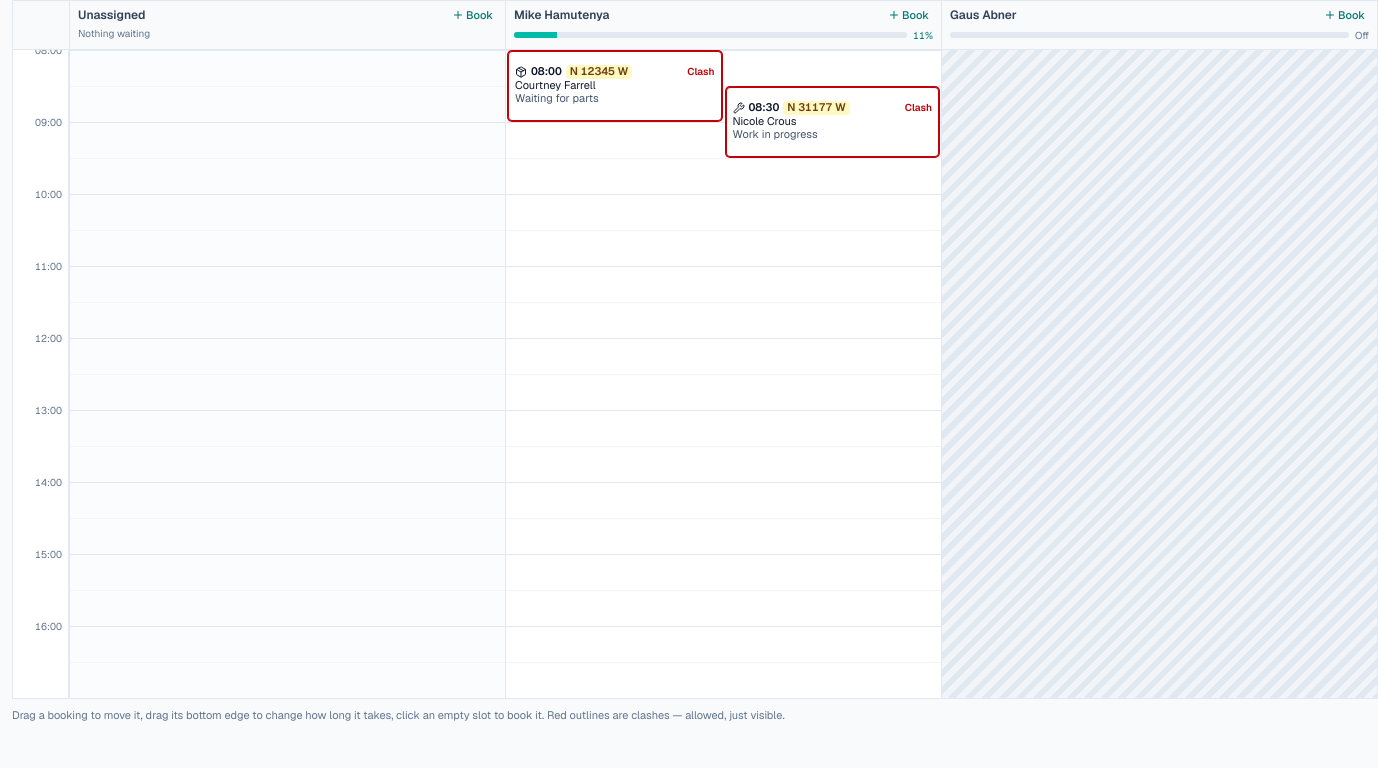
Test case: Book offers the lane's first free slot and moves focus to it; Escape takes the offer away
The width and height of the screenshot is (1378, 768).
Click the button named "Book with Mike Hamutenya". click: (908, 15)
box: [884,5,933,26]
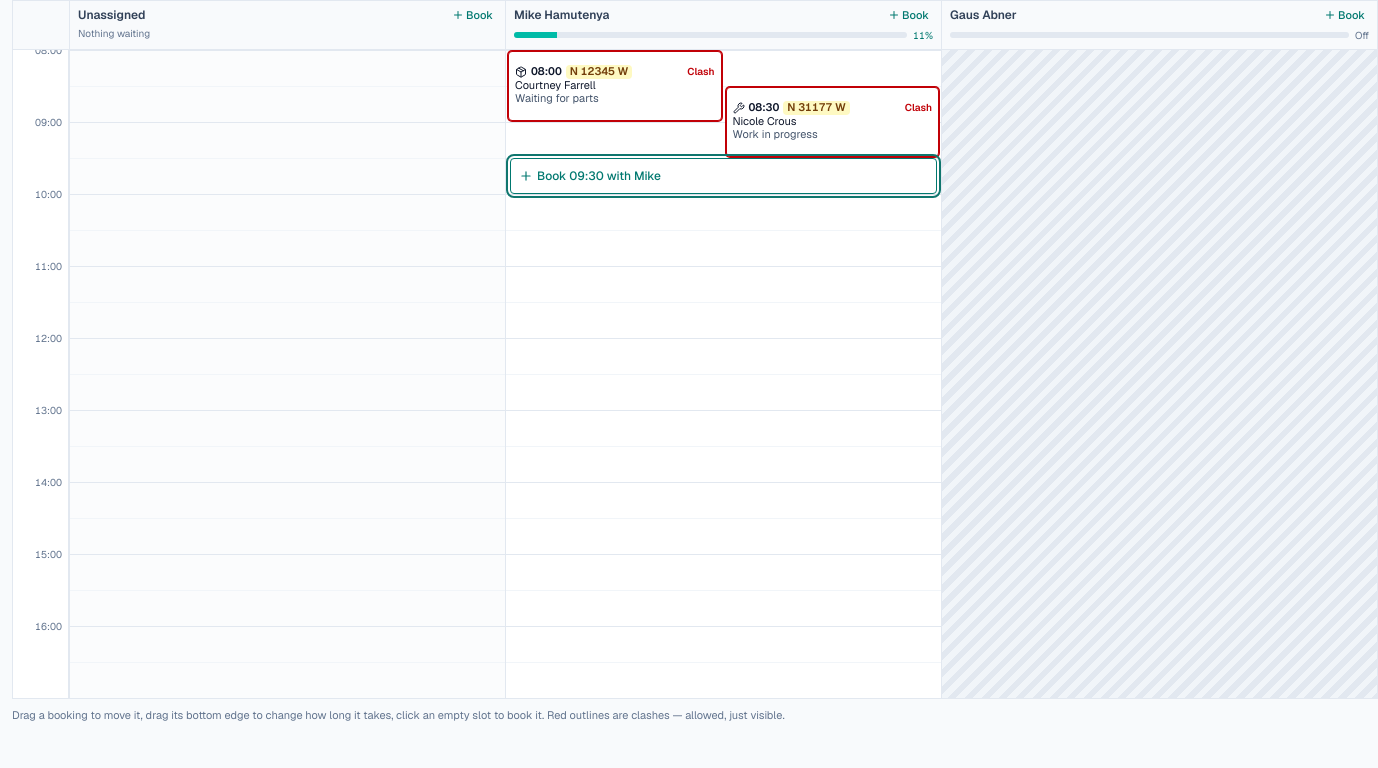
Press Escape
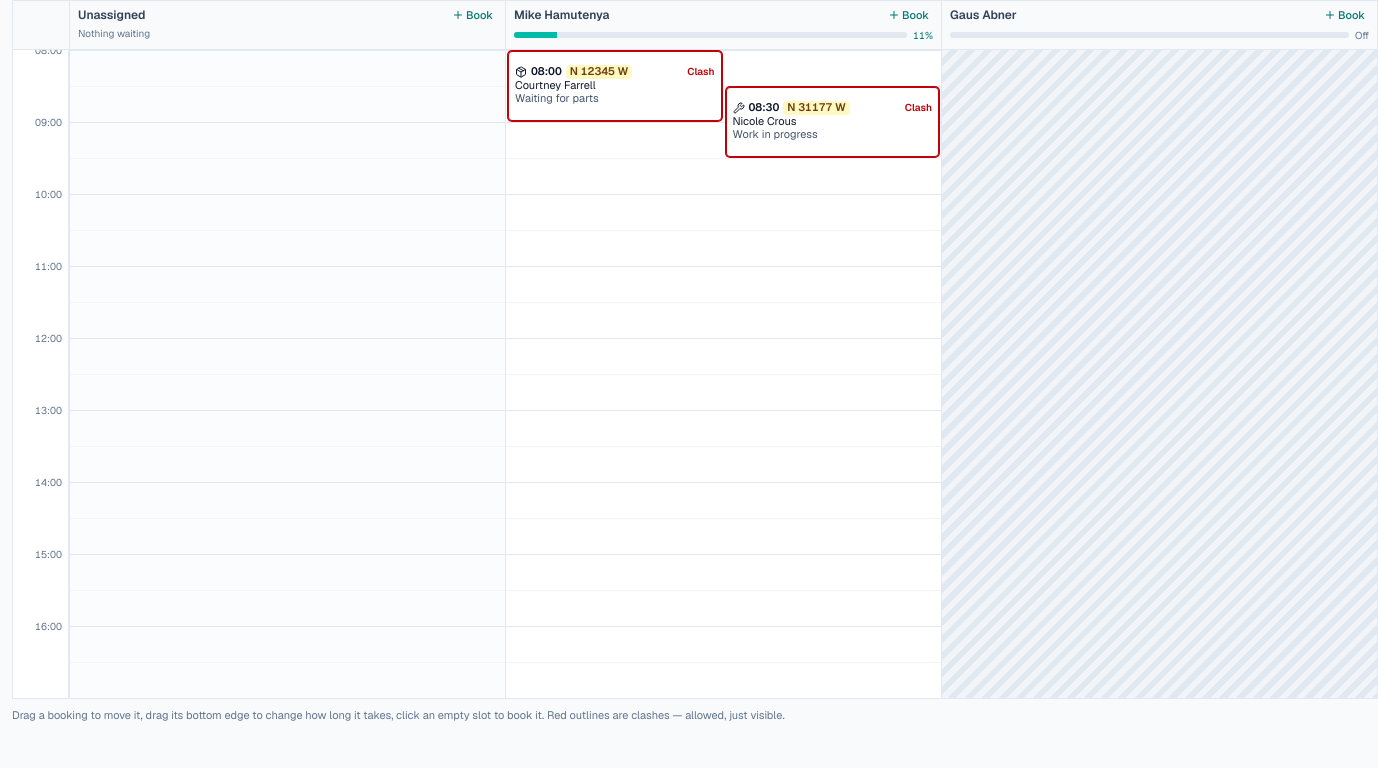
Check: the button "Book 09:30 with Mike" is gone
